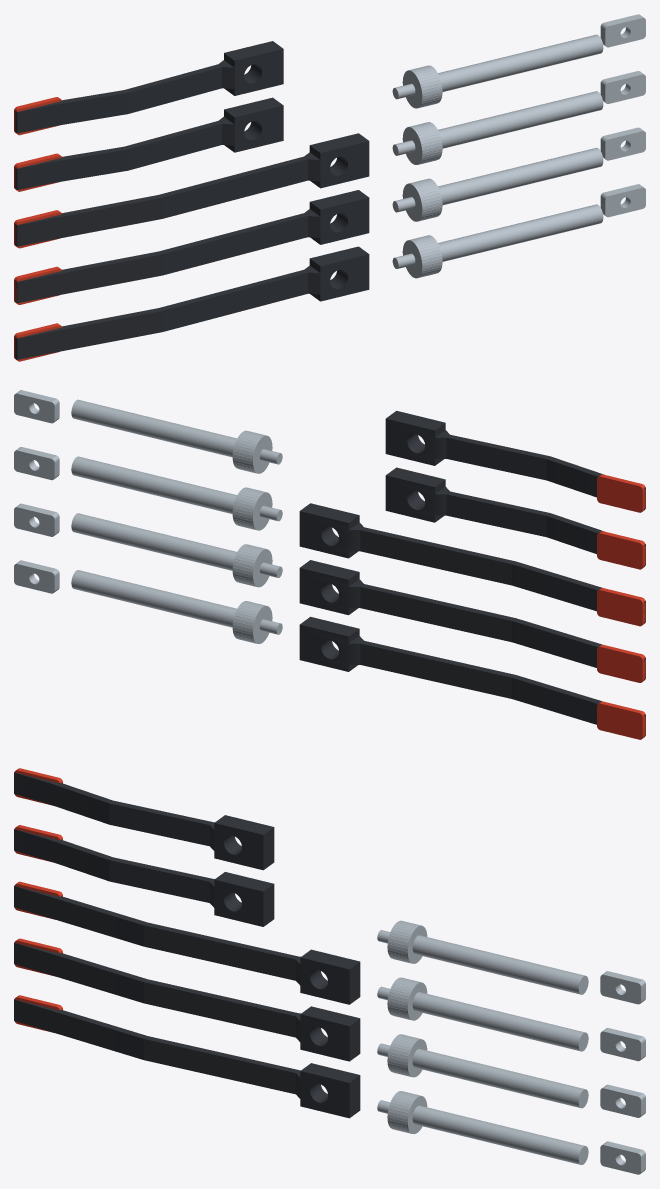
The model's file is supply_omax_317864.glb.
3 renders of one model, top to bottom at view 1: azimuth 30°, elevation 25°; view 2: azimuth 150°, elevation 25°; view 3: azimuth 330°, elevation 25°, orthographic.
Visible parts, largest first — view 1: arm_3_bowed_arm_with_post_bore, arm_1_bowed_arm_with_post_bore, arm_2_bowed_arm_with_post_bore, arm_5_bowed_arm_with_post_bore, arm_4_bowed_arm_with_post_bore, post_2_shaft, post_4_shaft, post_3_shaft, post_1_shaft, post_2_knurled_grip, post_4_knurled_grip, post_1_knurled_grip (+5 smaller); view 2: arm_3_bowed_arm_with_post_bore, arm_2_bowed_arm_with_post_bore, arm_1_bowed_arm_with_post_bore, arm_4_bowed_arm_with_post_bore, arm_5_bowed_arm_with_post_bore, post_2_shaft, post_1_shaft, post_3_shaft, post_4_shaft, arm_1_red_contact_pad, arm_5_red_contact_pad, arm_4_red_contact_pad (+10 smaller); view 3: arm_2_bowed_arm_with_post_bore, arm_1_bowed_arm_with_post_bore, arm_3_bowed_arm_with_post_bore, arm_4_bowed_arm_with_post_bore, arm_5_bowed_arm_with_post_bore, post_2_shaft, post_3_shaft, post_1_shaft, post_4_shaft, post_3_knurled_grip, post_4_knurled_grip, post_2_knurled_grip (+5 smaller).
Part boxes in pixels (<box>): arm_3_bowed_arm_with_post_bore: <box>15,133,369,246</box>; arm_1_bowed_arm_with_post_bore: <box>15,246,369,359</box>; arm_2_bowed_arm_with_post_bore: <box>15,190,369,303</box>; arm_5_bowed_arm_with_post_bore: <box>15,41,283,133</box>; arm_4_bowed_arm_with_post_bore: <box>15,97,283,189</box>; post_2_shaft: <box>407,147,603,211</box>; post_4_shaft: <box>407,34,603,98</box>; post_3_shaft: <box>407,91,603,155</box>; post_1_shaft: <box>408,204,603,268</box>; post_2_knurled_grip: <box>402,178,442,221</box>; post_4_knurled_grip: <box>402,65,442,108</box>; post_1_knurled_grip: <box>402,235,442,278</box>; arm_3_bowed_arm_with_post_bore: <box>299,503,645,623</box>; arm_2_bowed_arm_with_post_bore: <box>299,560,645,679</box>; arm_1_bowed_arm_with_post_bore: <box>299,616,645,736</box>; arm_4_bowed_arm_with_post_bore: <box>385,467,645,566</box>; arm_5_bowed_arm_with_post_bore: <box>385,410,645,509</box>; post_2_shaft: <box>71,513,267,577</box>; post_1_shaft: <box>71,570,267,634</box>; post_3_shaft: <box>71,456,267,520</box>; post_4_shaft: <box>71,399,267,464</box>; arm_1_red_contact_pad: <box>597,701,645,739</box>; arm_5_red_contact_pad: <box>597,474,645,512</box>; arm_4_red_contact_pad: <box>597,531,645,569</box>; arm_2_bowed_arm_with_post_bore: <box>14,942,360,1061</box>; arm_1_bowed_arm_with_post_bore: <box>14,999,360,1118</box>; arm_3_bowed_arm_with_post_bore: <box>14,886,360,1004</box>; arm_4_bowed_arm_with_post_bore: <box>14,829,274,926</box>; arm_5_bowed_arm_with_post_bore: <box>14,772,274,870</box>; post_2_shaft: <box>412,1048,588,1108</box>; post_3_shaft: <box>412,992,588,1051</box>; post_1_shaft: <box>412,1105,588,1164</box>; post_4_shaft: <box>412,935,588,994</box>; post_3_knurled_grip: <box>387,977,427,1020</box>; post_4_knurled_grip: <box>387,920,427,963</box>; post_2_knurled_grip: <box>387,1034,427,1077</box>.
Size of the model in its own units: 0.371 by 0.148 by 0.0201.
